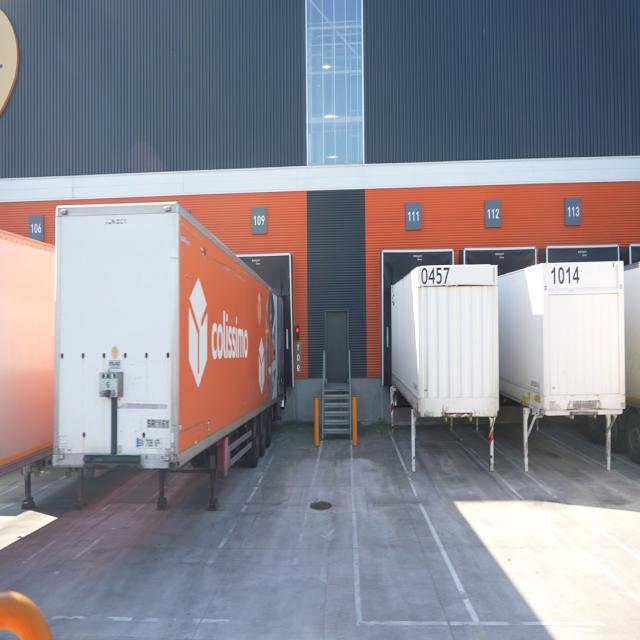Code: (548, 261, 582, 290), (418, 264, 452, 288)
